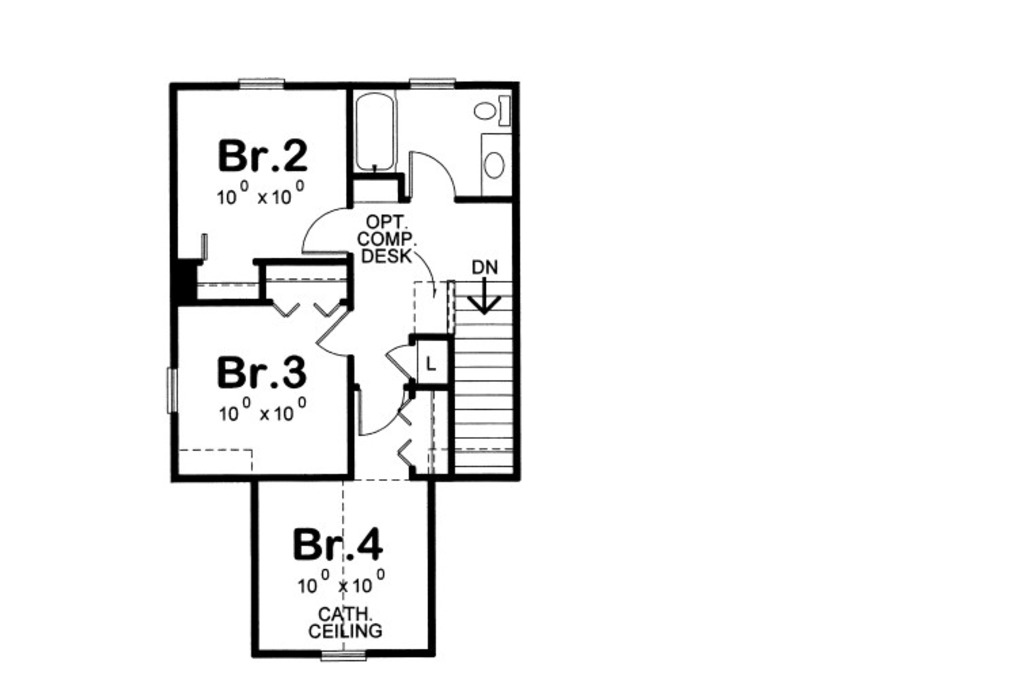door: (298, 205, 359, 258), (357, 382, 407, 441), (404, 148, 459, 200), (316, 305, 355, 355), (383, 344, 420, 379)
large_sink: (468, 85, 519, 131)
small_sink: (478, 129, 516, 197)
stairs: (441, 277, 537, 484)
tub: (350, 84, 403, 174)
window: (320, 645, 369, 665), (166, 363, 180, 415), (411, 77, 456, 93), (239, 75, 287, 89)
